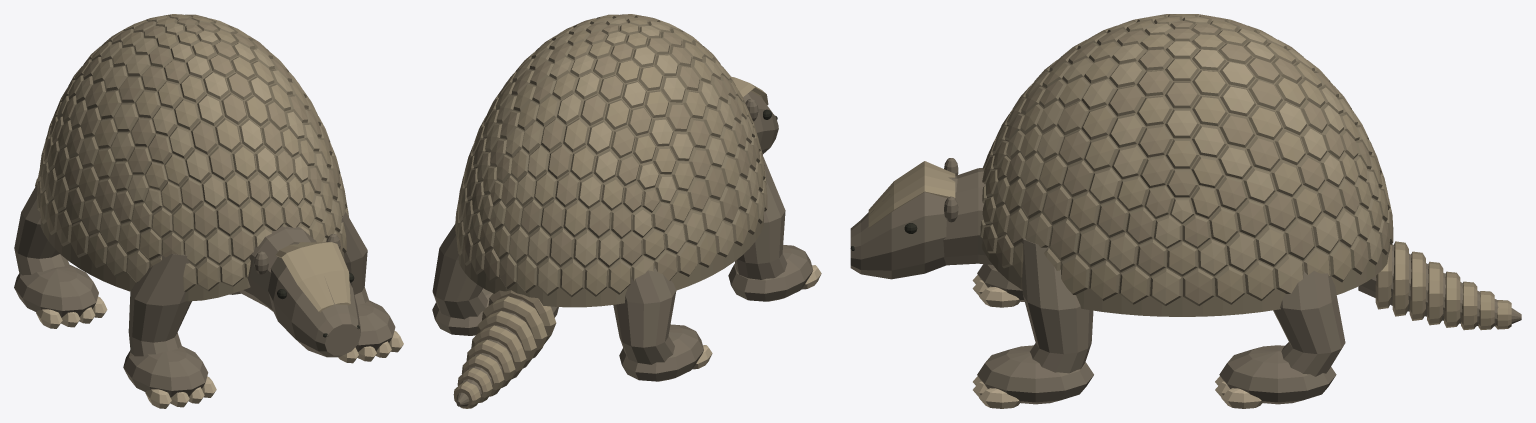
3 views of the same model, side by side, from view 1: azimuth 30°, elevation 25°; view 2: azimuth 150°, elevation 25°; view 3: azimuth 270°, elevation 25° (orthographic). The views are drawn at different scales.
Parts seen in each view (by area): view 1: osteoderm-mosaic, rigid-domed-carapace, left-fore-leg, deep-blunt-head, forehead-shield, left-hind-foot, left-fore-foot, weight-bearing-toe-claws, left-hind-leg, short-muscular-neck, right-fore-foot, right-fore-leg (+1 smaller); view 2: osteoderm-mosaic, rigid-domed-carapace, eight-short-tail-armor-rings, left-hind-leg, right-hind-leg, left-fore-leg, left-fore-foot, left-hind-foot, right-hind-foot, deep-blunt-head, short-tail-core, weight-bearing-toe-claws (+1 smaller); view 3: osteoderm-mosaic, rigid-domed-carapace, eight-short-tail-armor-rings, deep-blunt-head, right-fore-leg, right-hind-leg, right-hind-foot, right-fore-foot, short-muscular-neck, forehead-shield, weight-bearing-toe-claws, short-tail-core (+1 smaller).
Boxes of the visible parts, left/top/right/bottom form: osteoderm-mosaic: left=37, top=14, right=348, bottom=291; rigid-domed-carapace: left=40, top=20, right=344, bottom=301; left-fore-leg: left=128, top=253, right=191, bottom=356; deep-blunt-head: left=268, top=242, right=360, bottom=357; forehead-shield: left=276, top=242, right=350, bottom=312; left-hind-foot: left=14, top=264, right=98, bottom=317; left-fore-foot: left=123, top=346, right=208, bottom=397; weight-bearing-toe-claws: left=36, top=296, right=403, bottom=408; left-hind-leg: left=14, top=180, right=69, bottom=275; short-muscular-neck: left=239, top=226, right=316, bottom=311; right-fore-foot: left=355, top=300, right=395, bottom=351; right-fore-leg: left=341, top=211, right=369, bottom=304; osteoderm-mosaic: left=455, top=14, right=767, bottom=297; rigid-domed-carapace: left=459, top=20, right=763, bottom=307; eight-short-tail-armor-rings: left=453, top=290, right=556, bottom=408; left-hind-leg: left=613, top=266, right=676, bottom=364; right-hind-leg: left=432, top=223, right=487, bottom=319; left-fore-leg: left=735, top=157, right=787, bottom=279; left-fore-foot: left=728, top=245, right=813, bottom=301; left-hind-foot: left=619, top=324, right=703, bottom=381; right-hind-foot: left=432, top=288, right=492, bottom=335; deep-blunt-head: left=743, top=91, right=778, bottom=153; short-tail-core: left=456, top=297, right=558, bottom=406; weight-bearing-toe-claws: left=692, top=265, right=821, bottom=369; osteoderm-mosaic: left=980, top=14, right=1393, bottom=305; rigid-domed-carapace: left=981, top=19, right=1390, bottom=316; eight-short-tail-armor-rings: left=1375, top=241, right=1511, bottom=330; deep-blunt-head: left=850, top=176, right=957, bottom=279; right-fore-leg: left=1021, top=238, right=1093, bottom=373; right-hind-leg: left=1273, top=270, right=1345, bottom=376; right-hind-foot: left=1219, top=345, right=1336, bottom=404; right-fore-foot: left=977, top=345, right=1093, bottom=404; short-muscular-neck: left=943, top=168, right=992, bottom=265; forehead-shield: left=868, top=161, right=955, bottom=227; weight-bearing-toe-claws: left=972, top=275, right=1263, bottom=408; short-tail-core: left=1358, top=244, right=1521, bottom=326.
Bounding box in the file's own units: 1.28 × 1.4 × 2.63.
